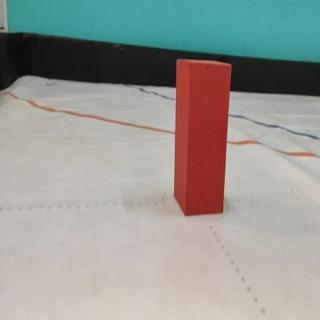redbox: (175, 57, 232, 214)
